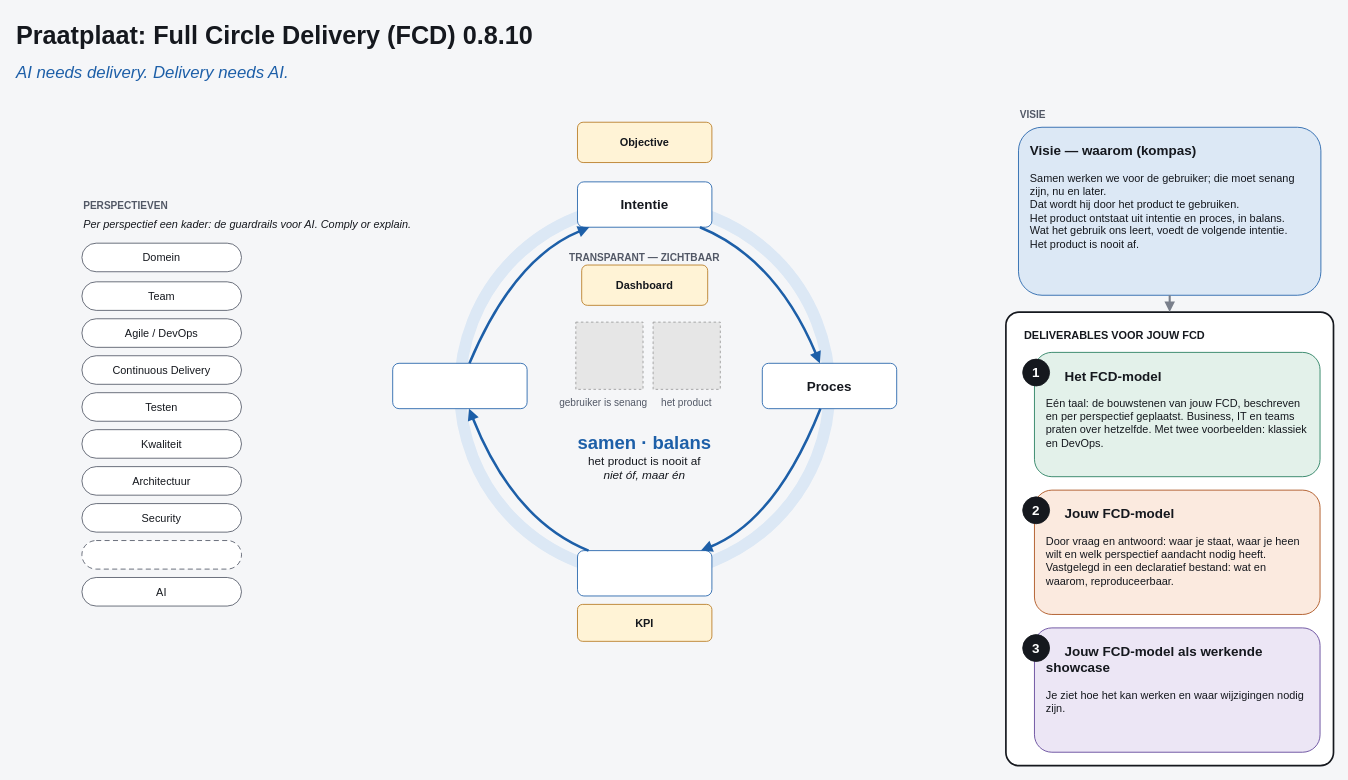
This 1348x780 diagram has some shape labels left out. Grey dashed boxes stand in for pictures. Each missing label, with the centre of its shape:
Leren: point (459, 385)
Product: point (644, 573)
